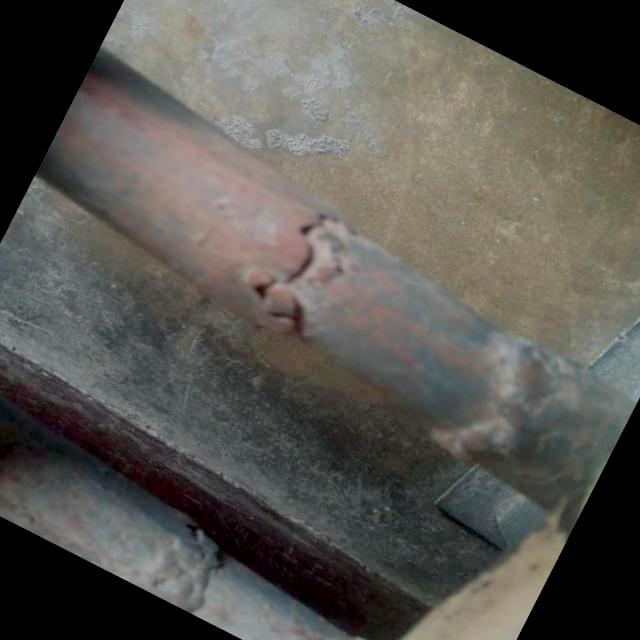defect: (249, 206, 348, 331)
